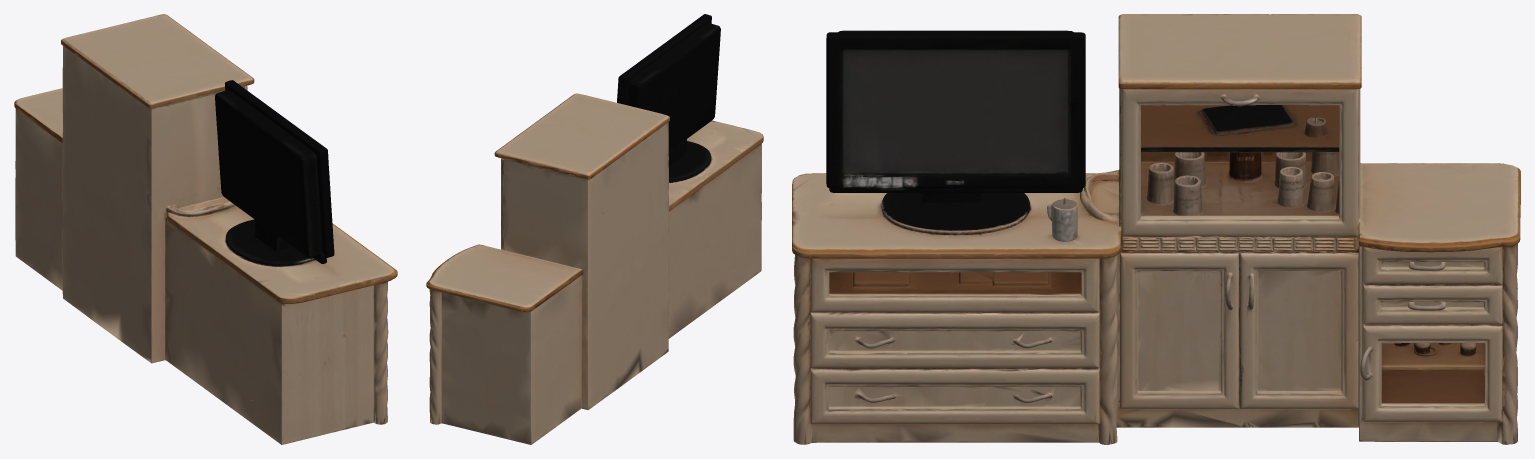
Rendered from television.glb.
3 views of the same model, side by side, from view 1: azimuth 30°, elevation 25°; view 2: azimuth 150°, elevation 25°; view 3: azimuth 270°, elevation 25° (orthographic). The views are drawn at different scales.
Parts seen in each view (by area): view 1: tripo_node_e5db8785-df37-4b57-9264-ab93de7bf792; view 2: tripo_node_e5db8785-df37-4b57-9264-ab93de7bf792; view 3: tripo_node_e5db8785-df37-4b57-9264-ab93de7bf792.
Part boxes in pixels (x1,y1,x2,y2): tripo_node_e5db8785-df37-4b57-9264-ab93de7bf792: [14, 14, 397, 444]; tripo_node_e5db8785-df37-4b57-9264-ab93de7bf792: [426, 14, 763, 444]; tripo_node_e5db8785-df37-4b57-9264-ab93de7bf792: [792, 14, 1520, 444].
Bounding box in the file's own units: 0.2804 × 0.5556 × 0.9792.
1 material, 1 textured.
